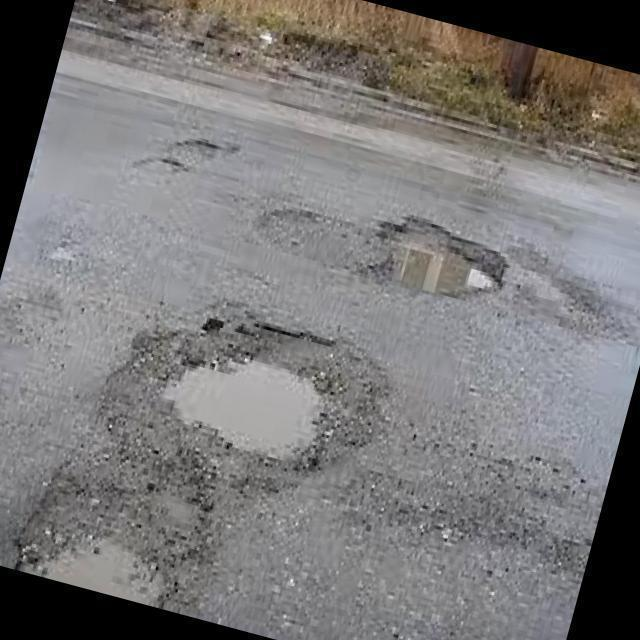pothole: (109, 306, 388, 461), (42, 454, 216, 614), (353, 214, 502, 300), (131, 138, 229, 178)
